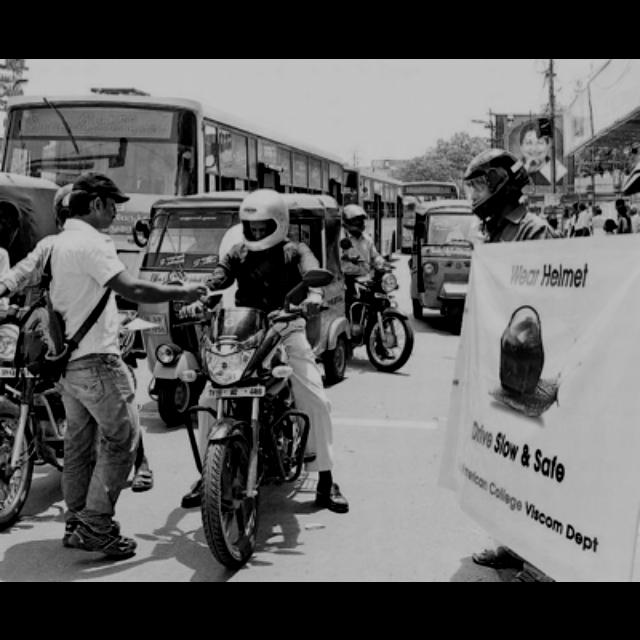With Helmet: (454, 143, 536, 223), (226, 176, 298, 254)
